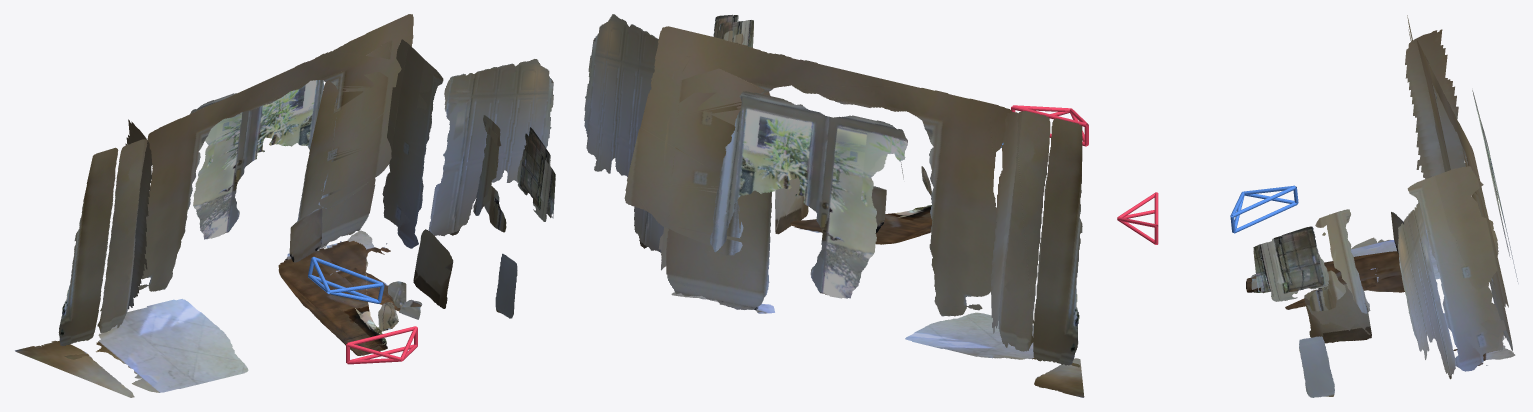
File: pred.glb
The picture shows the model from 3 angles, left to right: view 1: azimuth 30°, elevation 25°; view 2: azimuth 150°, elevation 25°; view 3: azimuth 270°, elevation 25°; orthographic projection. The views are drawn at different scales.
Visible parts, largest first — view 1: Node; view 2: Node; view 3: Node.
Part boxes in pixels (x1,y1,x2,y2): Node: (15,14,555,397); Node: (584,14,1088,397); Node: (1117,15,1518,397).
Size of the model in its own units: 5.86 by 2.98 by 4.22.
Materials: 24 (22 with a texture image).
